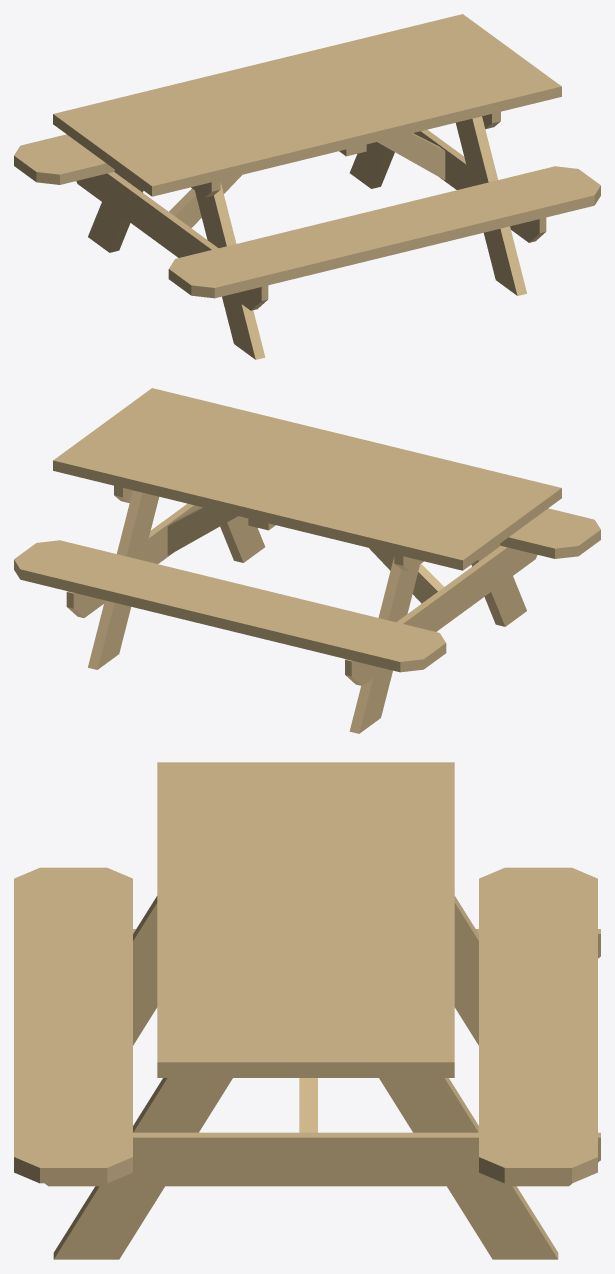
The model's file is picnictable.gltf.
3 renders of one model, top to bottom at view 1: azimuth 30°, elevation 25°; view 2: azimuth 150°, elevation 25°; view 3: azimuth 270°, elevation 25°, orthographic. The views are drawn at different scales.
Parts seen in each view (by area): view 1: Cube.002_Cube.001; view 2: Cube.002_Cube.001; view 3: Cube.002_Cube.001.
Boxes of the visible parts, x1,y1,x2,y2 form: Cube.002_Cube.001: [14, 14, 600, 359]; Cube.002_Cube.001: [14, 388, 600, 733]; Cube.002_Cube.001: [14, 762, 600, 1259].
Size of the model in its own units: 1.2 by 0.4603 by 0.9876.
